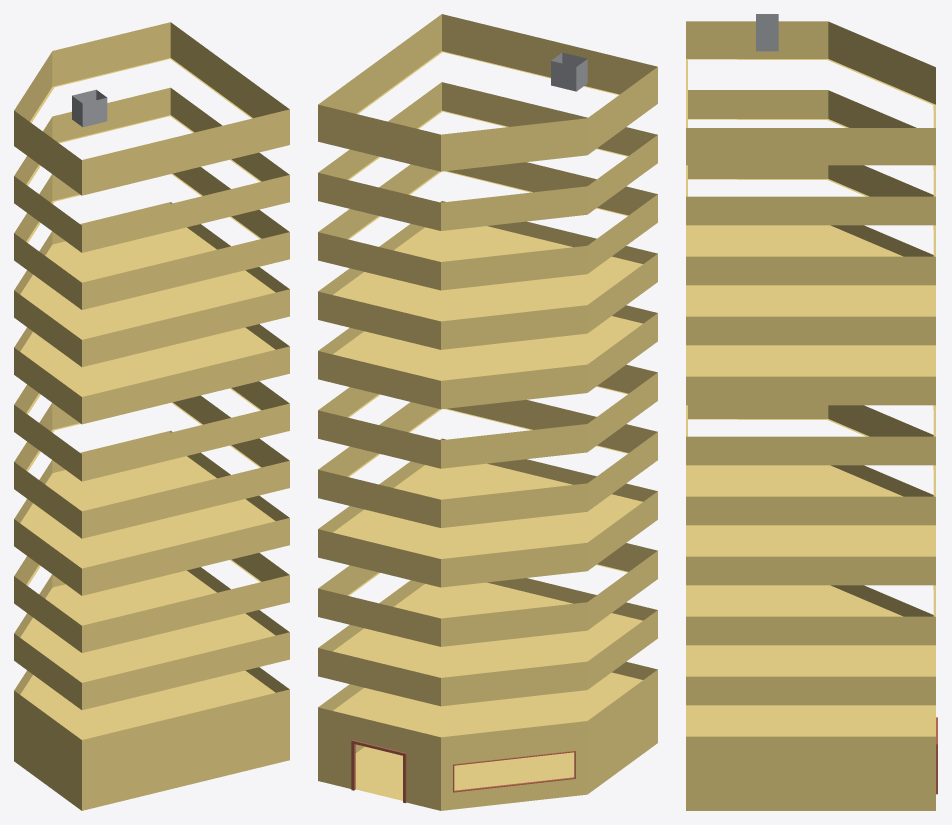
File: Bld_R_high_L5_B.fbx
3 renders of one model, left to right at view 1: azimuth 30°, elevation 25°; view 2: azimuth 150°, elevation 25°; view 3: azimuth 270°, elevation 25°, orthographic. The views are drawn at different scales.
Parts seen in each view (by area): view 1: Bld_R_high_L5_B_LOD0; view 2: Bld_R_high_L5_B_LOD0; view 3: Bld_R_high_L5_B_LOD0.
Boxes of the visible parts, x1,y1,x2,y2 form: Bld_R_high_L5_B_LOD0: (14, 22, 289, 810); Bld_R_high_L5_B_LOD0: (318, 14, 657, 810); Bld_R_high_L5_B_LOD0: (686, 14, 937, 810).
Size of what is drawn, in the model's own units: 2200 by 7140 by 2200.
1 material, 1 textured.
